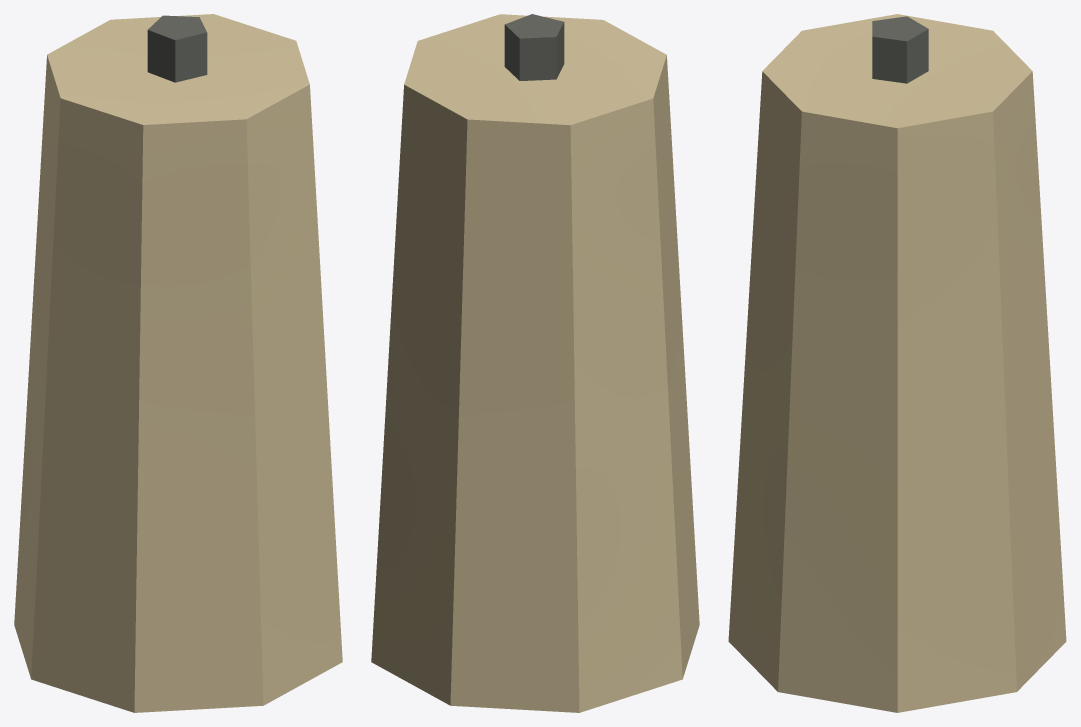
The model's file is WarrensC_PWC23_CandleStub_Mars_SM.fbx.
3 views of the same model, side by side, from view 1: azimuth 30°, elevation 25°; view 2: azimuth 150°, elevation 25°; view 3: azimuth 270°, elevation 25° (orthographic).
Parts seen in each view (by area): view 1: WarrensC_PWC23_CandleStub_Mars_SM.001; view 2: WarrensC_PWC23_CandleStub_Mars_SM.001; view 3: WarrensC_PWC23_CandleStub_Mars_SM.001.
Boxes of the visible parts, box(x1,y1,x2,y2) form: WarrensC_PWC23_CandleStub_Mars_SM.001: box(14, 14, 342, 712); WarrensC_PWC23_CandleStub_Mars_SM.001: box(371, 14, 699, 712); WarrensC_PWC23_CandleStub_Mars_SM.001: box(728, 14, 1066, 712).
Bounding box in the file's own units: 15 × 15 × 30.
